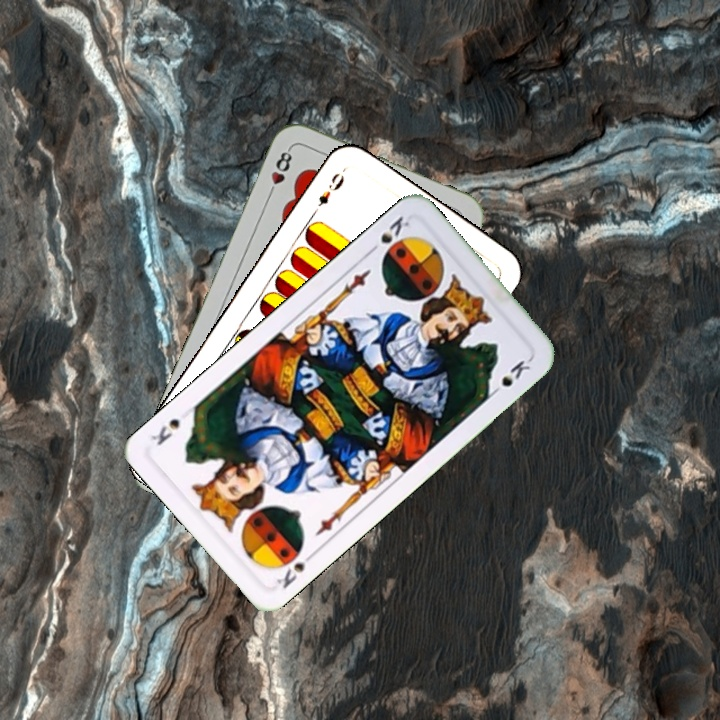E9: (314, 169, 347, 209)
H8: (264, 144, 295, 200)
SK: (363, 212, 412, 257), (272, 547, 319, 592)
